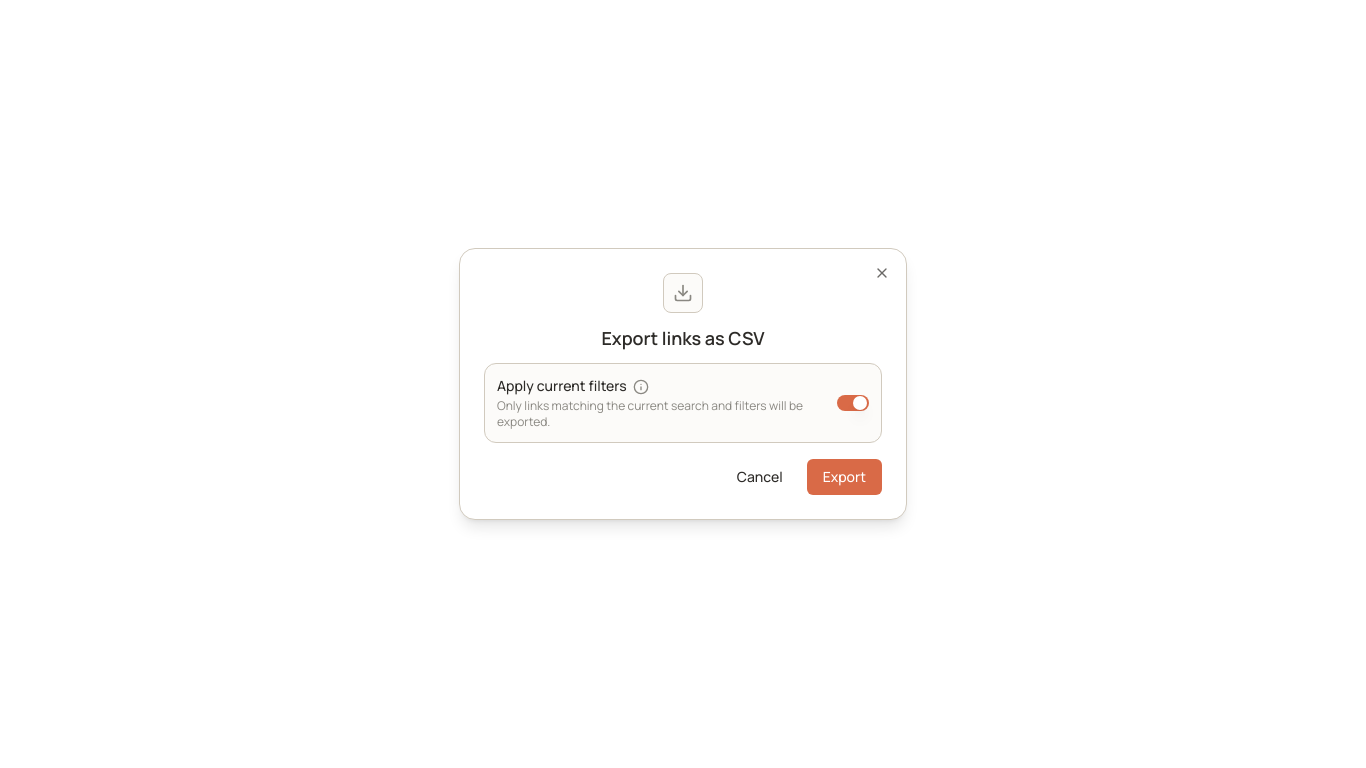
Test: ExportCsvModal on desktop › shows the exporting state and blocks every action while the request is pending
Click the button "Export" at (844, 477), box [807,459,882,495]
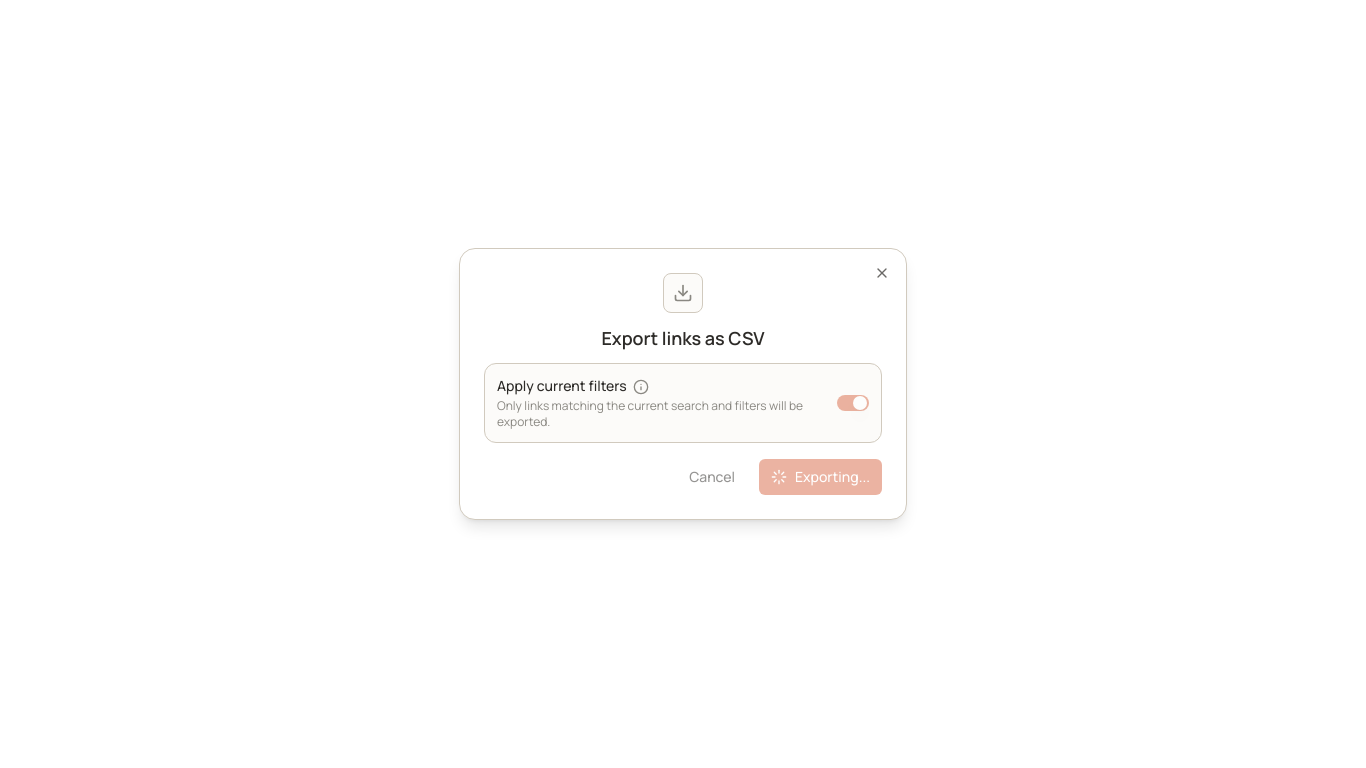
Result: the button "Exporting..." is disabled at [759,459,882,495]
Result: the button "Cancel" is disabled at [673,459,751,495]
